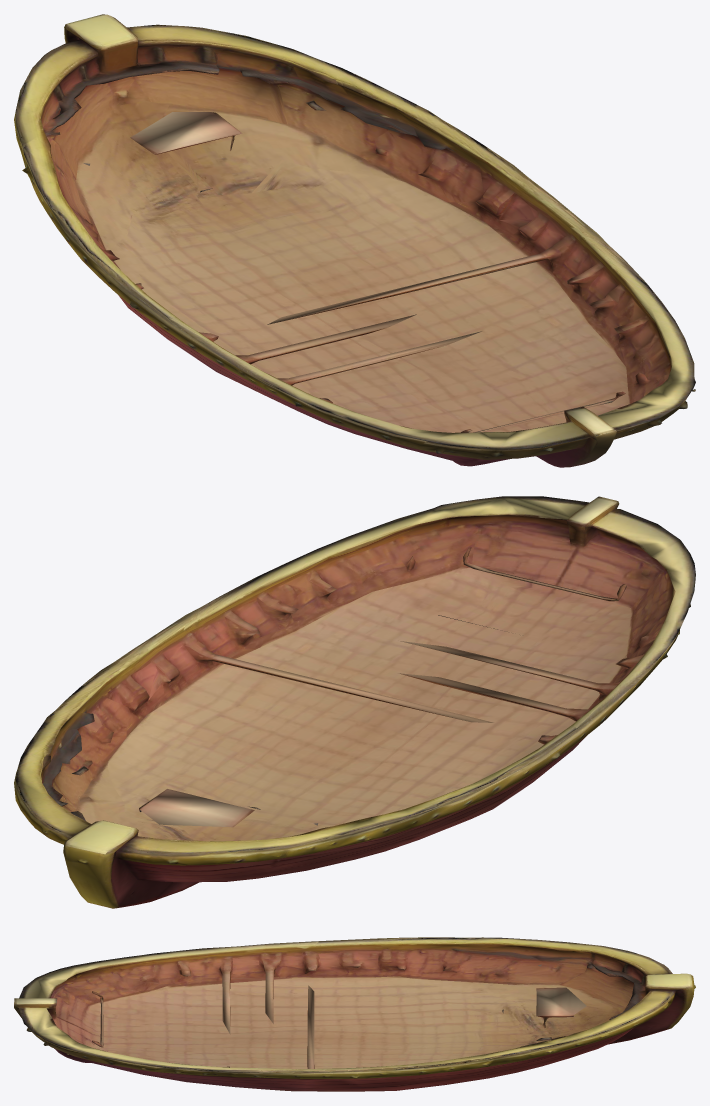
Rendered from keel.glb.
The picture shows the model from 3 angles, top to bottom: view 1: azimuth 30°, elevation 25°; view 2: azimuth 150°, elevation 25°; view 3: azimuth 270°, elevation 25°; orthographic projection. The views are drawn at different scales.
Parts seen in each view (by area): view 1: geometry_0; view 2: geometry_0; view 3: geometry_0.
Boxes of the visible parts, box(x1,y1,x2,y2) form: geometry_0: box(14, 14, 695, 467); geometry_0: box(14, 496, 695, 908); geometry_0: box(14, 937, 695, 1091).
Size of the model in its own units: 16.61 by 4.19 by 35.5.
Materials: 1 (1 with a texture image).
